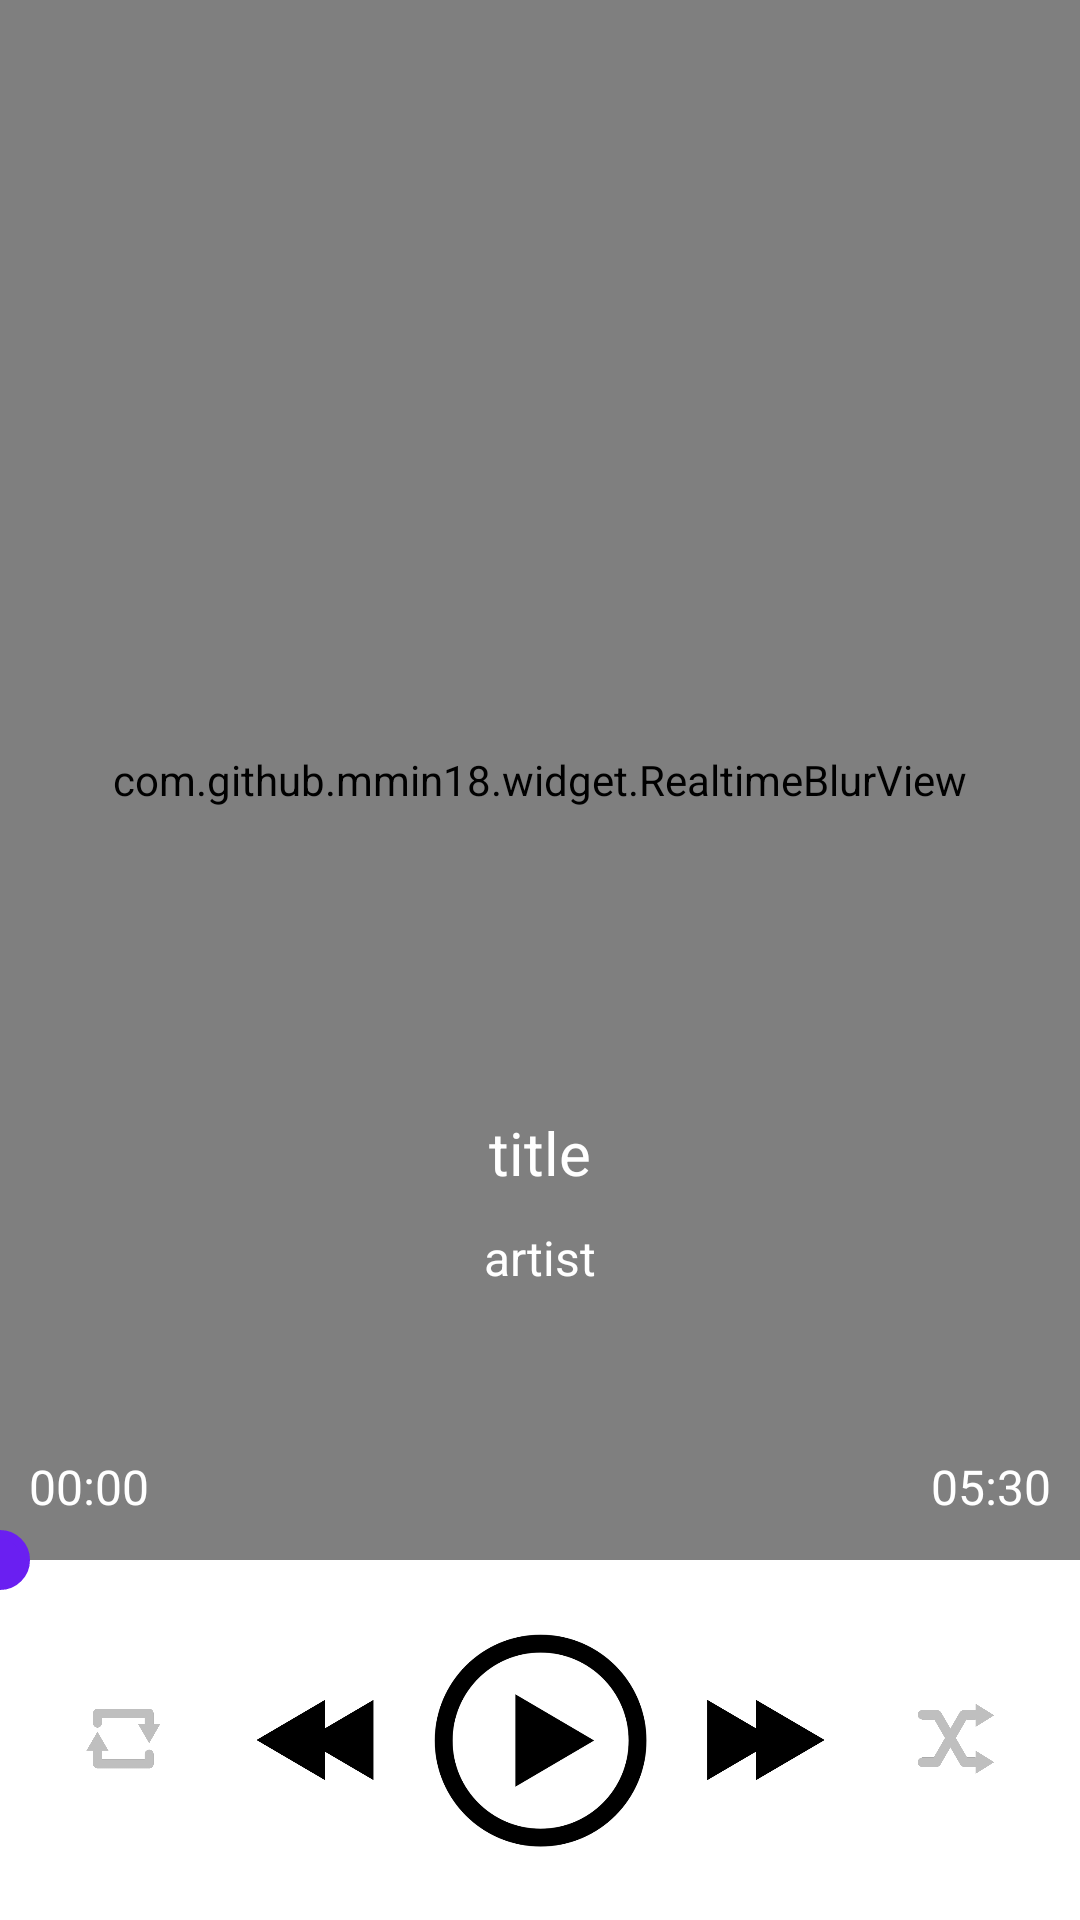

Point at icon controls on the screen. Image size 1080 x 1920, points as [x,y].
next: [765,1740]
play: [540,1740]
prev: [315,1740]
random: [956,1738]
recycle no: [123,1739]
